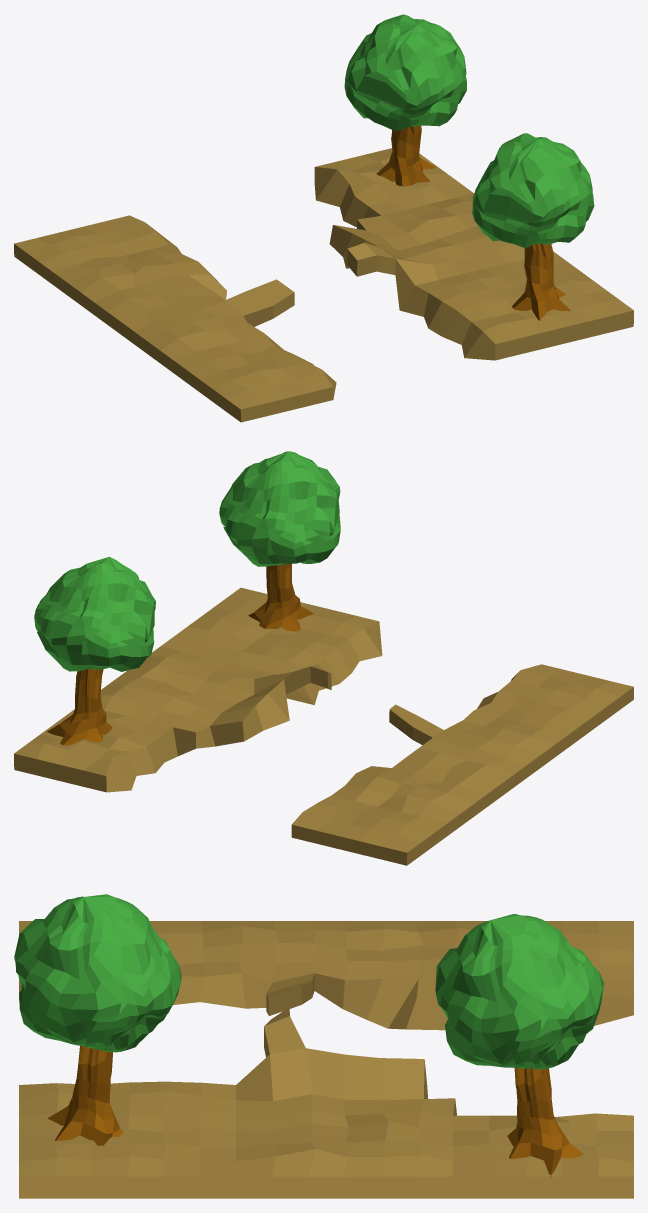
File: Piece 2.glb
3 renders of one model, top to bottom at view 1: azimuth 30°, elevation 25°; view 2: azimuth 150°, elevation 25°; view 3: azimuth 270°, elevation 25°, orthographic. The views are drawn at different scales.
Parts seen in each view (by area): view 1: Plane, Trunk, Trunk2; view 2: Plane, Trunk2, Trunk; view 3: Plane, Trunk2, Trunk.
Part boxes in pixels (x1,y1,x2,y2): Plane: [14, 148, 633, 422]; Trunk: [472, 133, 594, 320]; Trunk2: [344, 14, 466, 186]; Plane: [14, 587, 633, 865]; Trunk2: [34, 557, 155, 745]; Trunk: [219, 451, 340, 631]; Plane: [19, 921, 633, 1198]; Trunk2: [435, 914, 603, 1177]; Trunk: [14, 894, 181, 1145].
Size of what is drawn, in the model's own units: 16.59 by 7.66 by 16.13.
